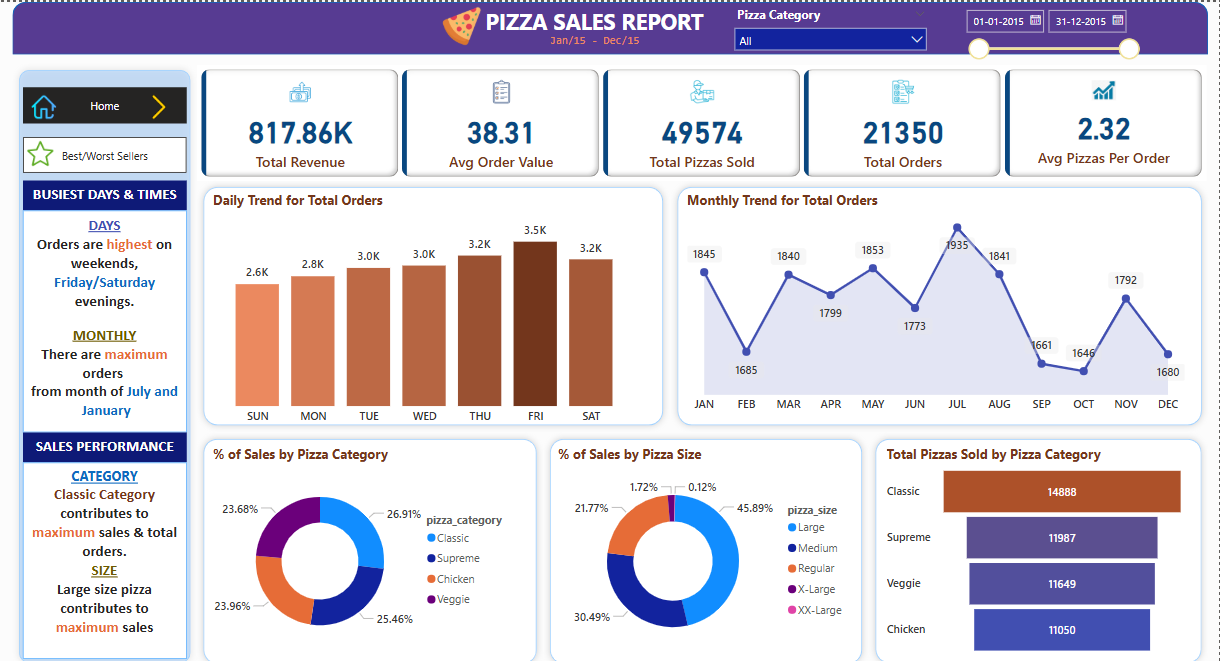

This screenshot's page, from the dashboard's own definition file:
{"tool":"powerbi","page":{"name":"Home","canvas":[1500,820],"ordinal":0},"visuals":[{"type":"shape","box":[16.6,75.6,226.8,745],"z":0},{"type":"cardVisual","fields":{"Data":["pizza_sales.Total Revenue","pizza_sales.Avg Order Value","pizza_sales.Total Pizzas Sold","pizza_sales.Total Orders","pizza_sales.Avg Pizzas Per Order"]},"box":[244.2,77.7,1241.6,142.5],"z":1000},{"type":"shape","box":[244.2,220.2,581,309],"z":2000},{"type":"shape","box":[16.6,0,1469.8,64.5],"z":3000},{"type":"textbox","box":[569.8,0,324.6,64.5],"z":4000},{"type":"columnChart","title":"Daily Trend for Total Orders","fields":{"Category":["pizza_sales.Order Day"],"Y":["pizza_sales.Total Orders"]},"box":[259,233.1,538.5,296.1],"z":5000},{"type":"textbox","box":[654.7,31.4,154.9,33.2],"z":6000},{"type":"image","box":[529.3,0,79.3,59],"z":7000},{"type":"shape","box":[825.3,220.2,660.6,309],"z":8000},{"type":"areaChart","title":"Monthly Trend for Total Orders","fields":{"Y":["pizza_sales.Total Orders"],"Category":["pizza_sales.Order Month"]},"box":[840.1,233.1,621.7,281.3],"z":9000},{"type":"shape","box":[244.2,529.2,425.6,292.4],"z":10000},{"type":"shape","box":[669.8,529.2,399.7,292.4],"z":11000},{"type":"shape","box":[1069.6,529.3,416.8,291.4],"z":12000},{"type":"donutChart","title":"% of Sales by Pizza Category","fields":{"Category":["pizza_sales.pizza_category"],"Y":["pizza_sales.Total Revenue"]},"box":[259,544,381.2,264.6],"z":13000},{"type":"donutChart","title":"% of Sales by Pizza Size","fields":{"Category":["pizza_sales.pizza_size"],"Y":["pizza_sales.Total Revenue"]},"box":[682.8,544,371.9,264.6],"z":14000},{"type":"funnel","title":"Total Pizzas Sold by Pizza Category","fields":{"Category":["pizza_sales.pizza_category"],"Y":["pizza_sales.Total Pizzas Sold"]},"box":[1086.2,544,376.2,263.7],"z":15000},{"type":"textbox","box":[29.5,219.5,201,36.9],"z":16000},{"type":"textbox","box":[29.5,256.3,201,272.9],"z":17000},{"type":"textbox","box":[29.5,529.3,201,36.9],"z":18000},{"type":"textbox","box":[29.5,566.1,201,241.6],"z":19000},{"type":"slicer","fields":{"Values":["pizza_sales.pizza_category"]},"box":[894.4,0,256.3,64.5],"z":20000},{"type":"slicer","fields":{"Values":["pizza_sales.order_date"]},"box":[1176.5,0,234.2,75.6],"z":21000},{"type":"pageNavigator","box":[29.5,105.1,201,44.3],"z":22000},{"type":"pageNavigator","box":[29.5,166,201,44],"z":23000},{"type":"image","box":[162.3,108.8,68.2,40.6],"z":24000},{"type":"image","box":[29.5,108.8,51.6,40.6],"z":25000},{"type":"image","box":[29.5,162.3,42.4,47.9],"z":26000}]}

Visuals, with their boxes in screenshot pixels (x1, y1, x2, y2), scaled from the page's 1500x820 canvas onto the 1220x661 screenshot:
shape: [x1=14, y1=61, x2=198, y2=660]
cardVisual - pizza_sales.Total Revenue x pizza_sales.Avg Order Value: [x1=199, y1=63, x2=1208, y2=178]
shape: [x1=199, y1=178, x2=671, y2=427]
shape: [x1=14, y1=0, x2=1209, y2=52]
textbox: [x1=463, y1=0, x2=727, y2=52]
"Daily Trend for Total Orders" columnChart: [x1=211, y1=188, x2=649, y2=427]
textbox: [x1=532, y1=25, x2=658, y2=52]
image: [x1=430, y1=0, x2=495, y2=48]
shape: [x1=671, y1=178, x2=1209, y2=427]
"Monthly Trend for Total Orders" areaChart: [x1=683, y1=188, x2=1189, y2=415]
shape: [x1=199, y1=427, x2=545, y2=660]
shape: [x1=545, y1=427, x2=870, y2=660]
shape: [x1=870, y1=427, x2=1209, y2=660]
"% of Sales by Pizza Category" donutChart: [x1=211, y1=439, x2=521, y2=652]
"% of Sales by Pizza Size" donutChart: [x1=555, y1=439, x2=858, y2=652]
"Total Pizzas Sold by Pizza Category" funnel: [x1=883, y1=439, x2=1189, y2=651]
textbox: [x1=24, y1=177, x2=187, y2=207]
textbox: [x1=24, y1=207, x2=187, y2=427]
textbox: [x1=24, y1=427, x2=187, y2=456]
textbox: [x1=24, y1=456, x2=187, y2=651]
slicer - pizza_sales.pizza_category: [x1=727, y1=0, x2=936, y2=52]
slicer - pizza_sales.order_date: [x1=957, y1=0, x2=1147, y2=61]
pageNavigator: [x1=24, y1=85, x2=187, y2=120]
pageNavigator: [x1=24, y1=134, x2=187, y2=169]
image: [x1=132, y1=88, x2=187, y2=120]
image: [x1=24, y1=88, x2=66, y2=120]
image: [x1=24, y1=131, x2=58, y2=169]
